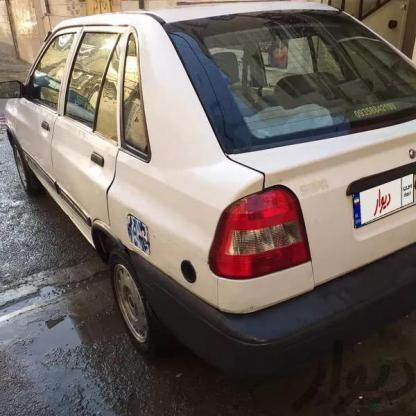Car: (0, 6, 416, 397)
